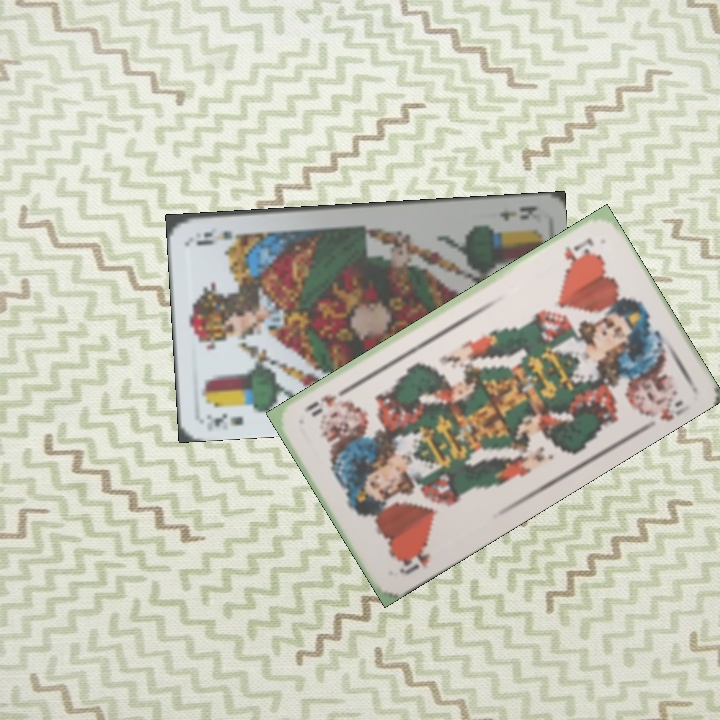EK: (202, 409, 246, 432), (495, 202, 539, 223)
HO: (394, 540, 433, 578), (560, 233, 597, 266)
